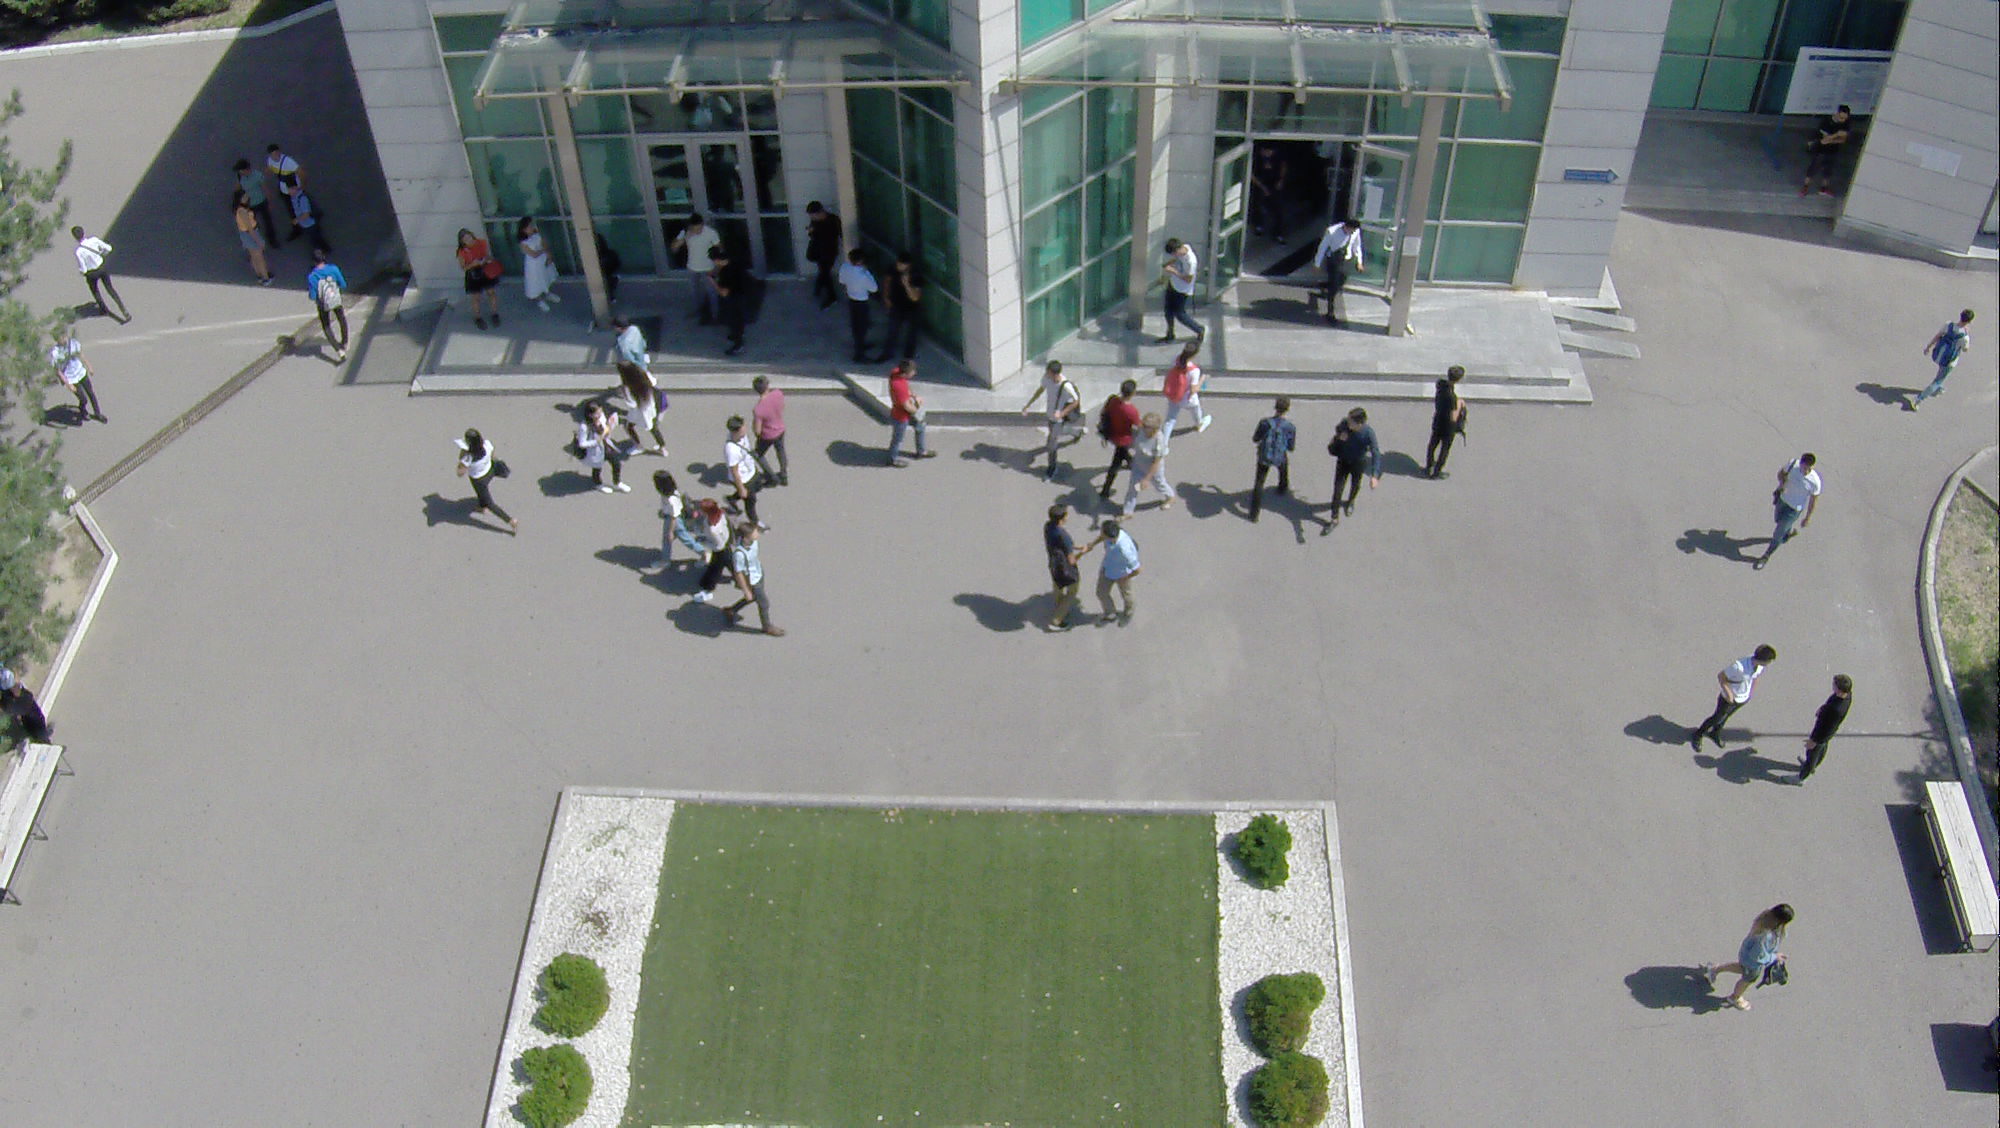person: (1689, 637, 1780, 757), (1706, 899, 1797, 1017), (1748, 443, 1831, 567), (1316, 401, 1383, 547), (1898, 304, 1982, 416), (1790, 673, 1860, 791), (643, 465, 708, 585), (726, 523, 791, 641), (455, 431, 522, 541), (1030, 348, 1084, 483), (1247, 392, 1299, 531), (67, 218, 128, 329), (1425, 358, 1476, 485), (305, 247, 353, 371), (885, 356, 935, 472), (1034, 504, 1075, 637), (698, 493, 745, 610), (617, 362, 670, 459), (1313, 213, 1363, 318), (750, 374, 793, 491), (575, 402, 626, 499), (1094, 517, 1136, 630), (452, 230, 501, 326), (722, 412, 766, 519), (1127, 410, 1177, 501), (681, 216, 723, 329), (1157, 240, 1201, 343), (840, 252, 878, 371), (710, 252, 753, 350), (889, 252, 928, 355), (802, 201, 838, 304), (520, 216, 558, 315), (235, 189, 272, 288), (1169, 343, 1208, 432), (603, 313, 649, 364), (292, 181, 315, 232)
